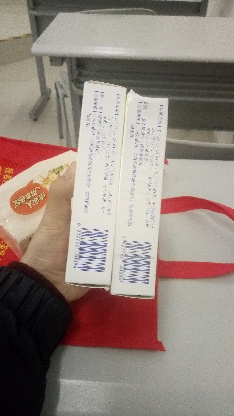pillbox: (71, 82, 123, 290), (118, 90, 164, 298)
